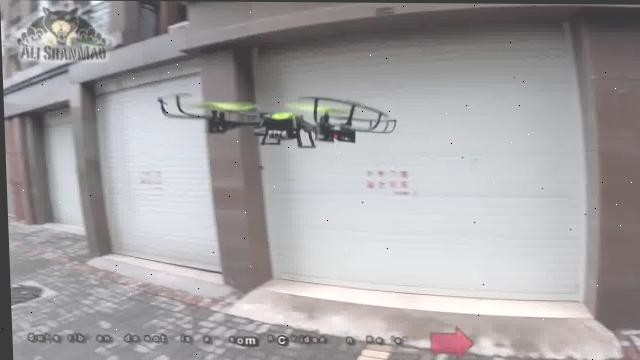drone: (153, 83, 413, 152)
